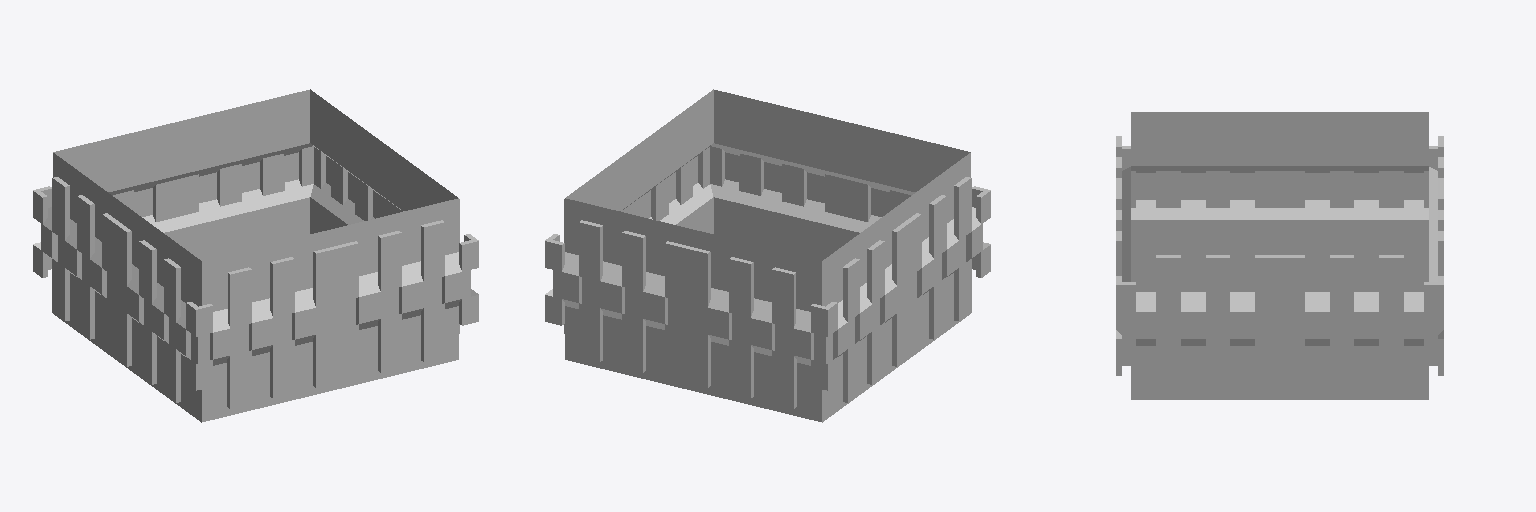
The model's file is Elevator-Shaft.obj.
The picture shows the model from 3 angles: view 1: azimuth 30°, elevation 25°; view 2: azimuth 150°, elevation 25°; view 3: azimuth 270°, elevation 25°; orthographic projection.
Parts seen in each view (by area): view 1: Elevator-Shaft; view 2: Elevator-Shaft; view 3: Elevator-Shaft.
Boxes of the visible parts, box(x1,y1,x2,y2) form: Elevator-Shaft: box(33, 89, 478, 422); Elevator-Shaft: box(545, 89, 990, 422); Elevator-Shaft: box(1116, 112, 1443, 399).
Size of the model in its own units: 5.5 by 3 by 5.5.